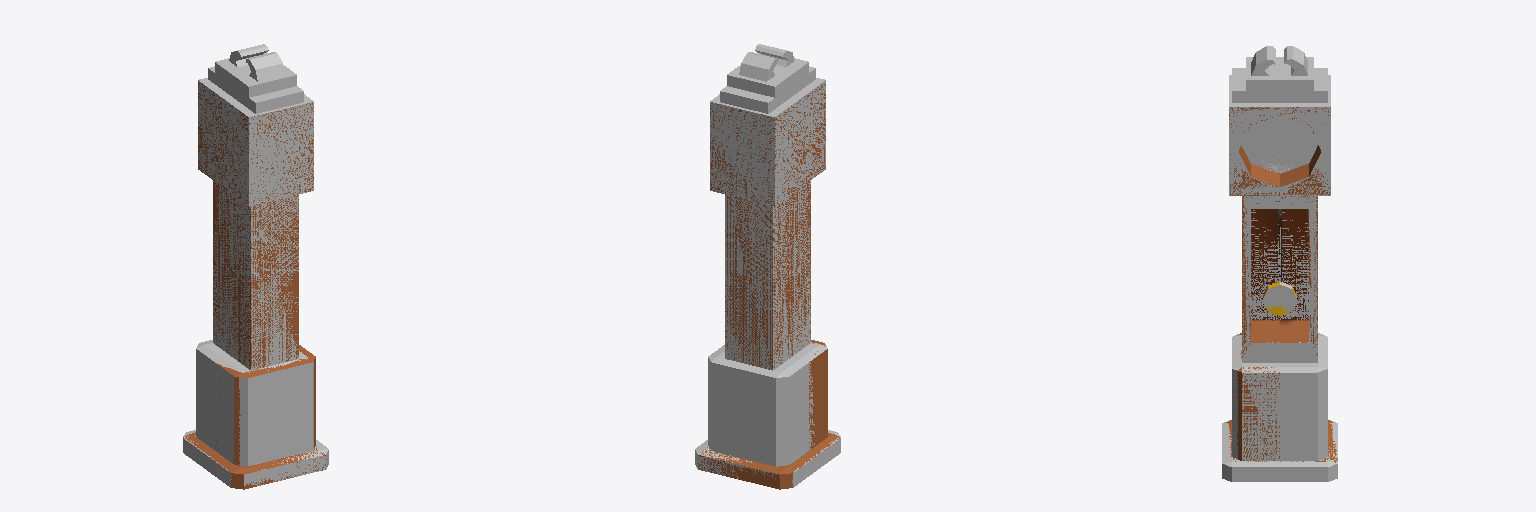
3 renders of one model, left to right at view 1: azimuth 30°, elevation 25°; view 2: azimuth 150°, elevation 25°; view 3: azimuth 270°, elevation 25°, orthographic.
Parts seen in each view (by area): view 1: Clock_Base.001, Ornamentation, Clock_Face.001, Clock_Body.001, Ornamentation.001; view 2: Clock_Base.001, Ornamentation, Clock_Face.001, Clock_Body.001, Ornamentation.001; view 3: Clock_Base.001, Ornamentation, Clock_Face.001, Clock_Body.001, Ornamentation.001, Dongle.001.
Part boxes in pixels (x1,y1,x2,y2): Clock_Base.001: (183, 340, 328, 487); Ornamentation: (183, 83, 325, 489); Clock_Face.001: (198, 78, 313, 206); Clock_Body.001: (213, 181, 298, 370); Ornamentation.001: (208, 44, 303, 113); Clock_Base.001: (695, 342, 840, 487); Ornamentation: (698, 84, 839, 489); Clock_Face.001: (710, 78, 825, 206); Clock_Body.001: (725, 181, 810, 370); Ornamentation.001: (720, 44, 815, 113); Clock_Base.001: (1222, 333, 1337, 481); Ornamentation: (1226, 107, 1337, 462); Clock_Face.001: (1229, 75, 1330, 195); Clock_Body.001: (1242, 196, 1317, 362); Ornamentation.001: (1232, 46, 1327, 102); Dongle.001: (1263, 282, 1296, 312).
Bounding box in the file's own units: 2.67 × 10.57 × 2.73.
Materials: 2 (1 with a texture image).